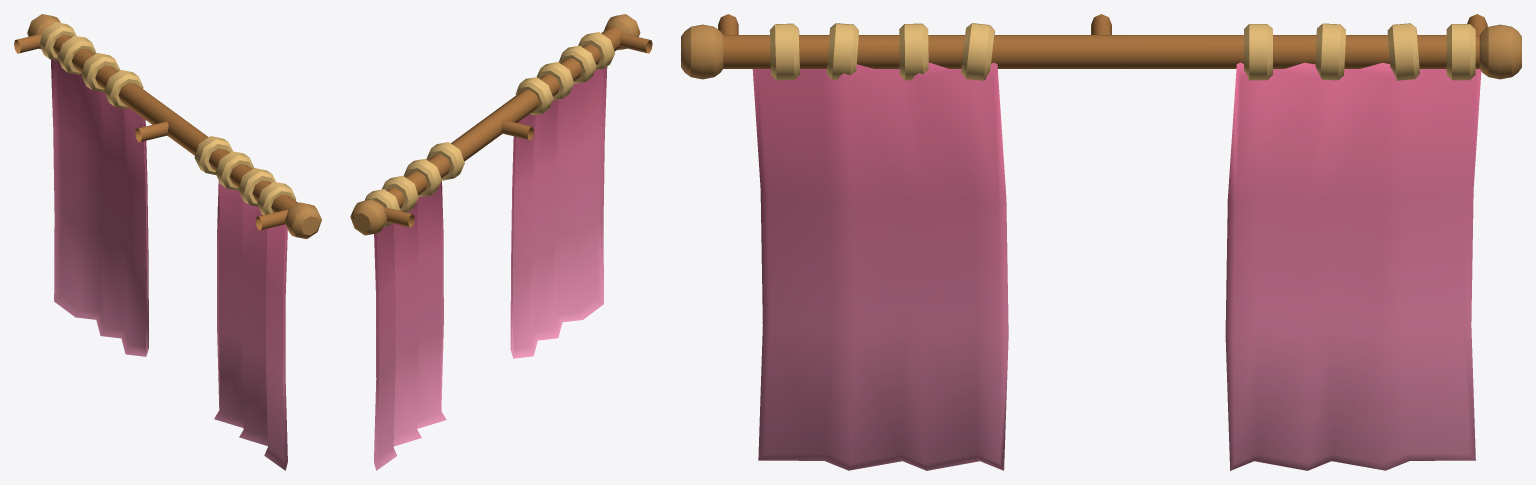
The model's file is Curtains_Long_2_C_K.glb.
3 renders of one model, left to right at view 1: azimuth 30°, elevation 25°; view 2: azimuth 150°, elevation 25°; view 3: azimuth 270°, elevation 25°, orthographic. The views are drawn at different scales.
Parts seen in each view (by area): view 1: Curtains_Long_2_C_K; view 2: Curtains_Long_2_C_K; view 3: Curtains_Long_2_C_K.
Boxes of the visible parts, x1,y1,x2,y2 form: Curtains_Long_2_C_K: (14, 14, 321, 470); Curtains_Long_2_C_K: (350, 14, 652, 470); Curtains_Long_2_C_K: (681, 14, 1521, 470).
Bounding box in the file's own units: 0.2288 × 1.16 × 2.02.
1 material, 1 textured.
